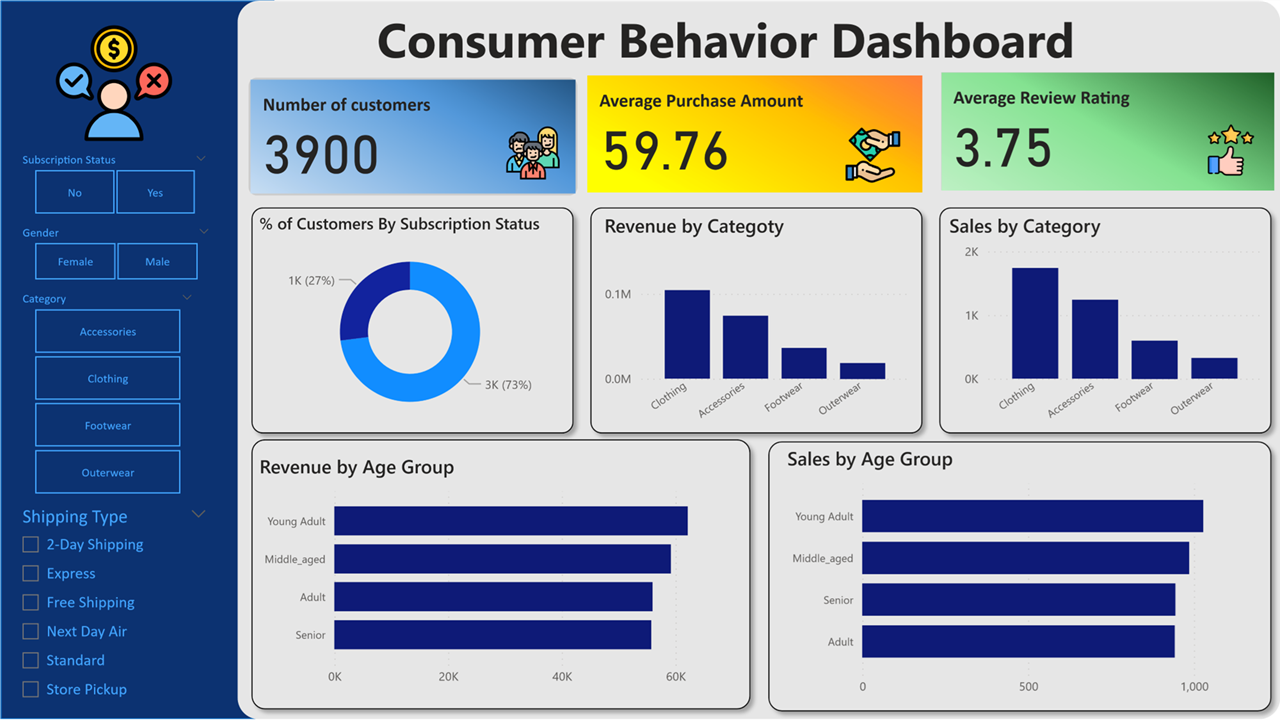

The page's visual inventory and layout, read from the dashboard file:
{"tool":"powerbi","page":{"name":"Page 1","canvas":[1280,720],"ordinal":0},"visuals":[{"type":"shape","box":[0,0,273.6,719.3],"z":0},{"type":"shape","box":[236.5,0,1043.5,718.6],"z":1000},{"type":"shape","box":[930.1,198.4,349.9,243.9],"z":2000},{"type":"shape","box":[580.9,198.1,350.1,244.3],"z":3000},{"type":"shape","box":[242.4,198.4,339.3,243.9],"z":4000},{"type":"shape","box":[758.9,431.7,521.1,287.8],"z":5000},{"type":"shape","box":[242.4,430.2,516.5,287.8],"z":6000},{"type":"donutChart","title":"% of Customers By Subscription Status","fields":{"Category":["public customer.subscription_status"],"Y":["public customer.Number of customers"]},"box":[254.5,212.1,310.5,218.1],"z":7000},{"type":"clusteredColumnChart","title":"Revenue by Categoty","fields":{"Category":["public customer.category"],"Y":["Sum(public customer.purchase_amount)"]},"box":[598.9,211.6,316.3,218.4],"z":8000},{"type":"clusteredColumnChart","title":"Sales by Category","fields":{"Category":["public customer.category"],"Y":["CountNonNull(public customer.customer_id)"]},"box":[943.7,212.1,324.2,218.1],"z":9000},{"type":"clusteredBarChart","title":"Revenue by Age Group","fields":{"Category":["public customer.age_group"],"Y":["Sum(public customer.purchase_amount)"]},"box":[254.5,452.9,492.3,240.9],"z":10000},{"type":"clusteredBarChart","title":"Sales by Age Group","fields":{"Category":["public customer.age_group"],"Y":["CountNonNull(public customer.customer_id)"]},"box":[781.6,445.3,498.4,259],"z":11000},{"type":"slicer","fields":{"Values":["public customer.subscription_status"]},"box":[9.1,146.9,209,72.7],"z":12000},{"type":"slicer","fields":{"Values":["public customer.gender"]},"box":[9.1,219.6,212.1,66.7],"z":13000},{"type":"slicer","fields":{"Values":["public customer.category"]},"box":[9.1,286.3,195.4,213.6],"z":14000},{"type":"slicer","fields":{"Values":["public customer.shipping_type"]},"box":[9,499.4,209.3,212.3],"z":15000},{"type":"cardVisual","fields":{"Data":["public customer.Average Purchase Amount"]},"box":[581.7,70,345,126.7],"z":16000},{"type":"cardVisual","fields":{"Data":["public customer.Number of customers"]},"box":[243.3,71.7,338.3,128.3],"z":17000},{"type":"cardVisual","fields":{"Data":["public customer.Average Review Rating"]},"box":[935.6,66.7,343.3,128.3],"z":18000},{"type":"image","box":[50,16.7,127.2,130.3],"z":19000},{"type":"textbox","box":[221.2,0,1008.9,81.8],"z":20000},{"type":"image","box":[835.3,121.6,74.2,65.1],"z":21000},{"type":"image","box":[1196.6,119.4,66.4,60.8],"z":22000},{"type":"image","box":[500,116.7,65,71.7],"z":23000}]}

Visuals, with their boxes in screenshot pixels (x1, y1, x2, y2), scaled from the page's 1280x720 canvas onto the 1280x720 screenshot:
shape: <box>0,0,274,719</box>
shape: <box>236,0,1279,719</box>
shape: <box>930,198,1279,442</box>
shape: <box>581,198,931,442</box>
shape: <box>242,198,582,442</box>
shape: <box>759,432,1279,719</box>
shape: <box>242,430,759,718</box>
"% of Customers By Subscription Status" donutChart: <box>254,212,565,430</box>
"Revenue by Categoty" clusteredColumnChart: <box>599,212,915,430</box>
"Sales by Category" clusteredColumnChart: <box>944,212,1268,430</box>
"Revenue by Age Group" clusteredBarChart: <box>254,453,747,694</box>
"Sales by Age Group" clusteredBarChart: <box>782,445,1279,704</box>
slicer - public customer.subscription_status: <box>9,147,218,220</box>
slicer - public customer.gender: <box>9,220,221,286</box>
slicer - public customer.category: <box>9,286,204,500</box>
slicer - public customer.shipping_type: <box>9,499,218,712</box>
cardVisual - public customer.Average Purchase Amount: <box>582,70,927,197</box>
cardVisual - public customer.Number of customers: <box>243,72,582,200</box>
cardVisual - public customer.Average Review Rating: <box>936,67,1279,195</box>
image: <box>50,17,177,147</box>
textbox: <box>221,0,1230,82</box>
image: <box>835,122,910,187</box>
image: <box>1197,119,1263,180</box>
image: <box>500,117,565,188</box>
